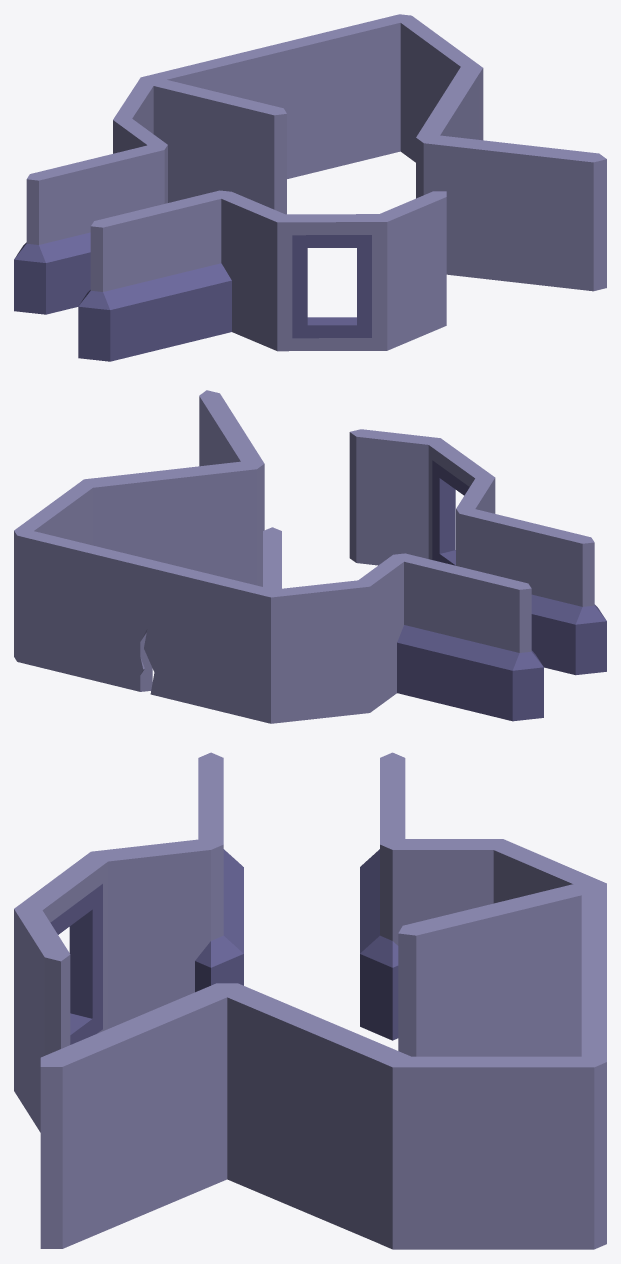
The model's file is walltest5.fbx.
3 views of the same model, one above another, from view 1: azimuth 30°, elevation 25°; view 2: azimuth 150°, elevation 25°; view 3: azimuth 270°, elevation 25° (orthographic). The views are drawn at different scales.
Parts seen in each view (by area): view 1: mergedBlocks; view 2: mergedBlocks; view 3: mergedBlocks.
Boxes of the visible parts, bbox=[...] form: mergedBlocks: bbox=[14, 14, 606, 361]; mergedBlocks: bbox=[14, 390, 606, 723]; mergedBlocks: bbox=[14, 752, 606, 1249].
Size of the model in its own units: 565 by 148 by 437.
